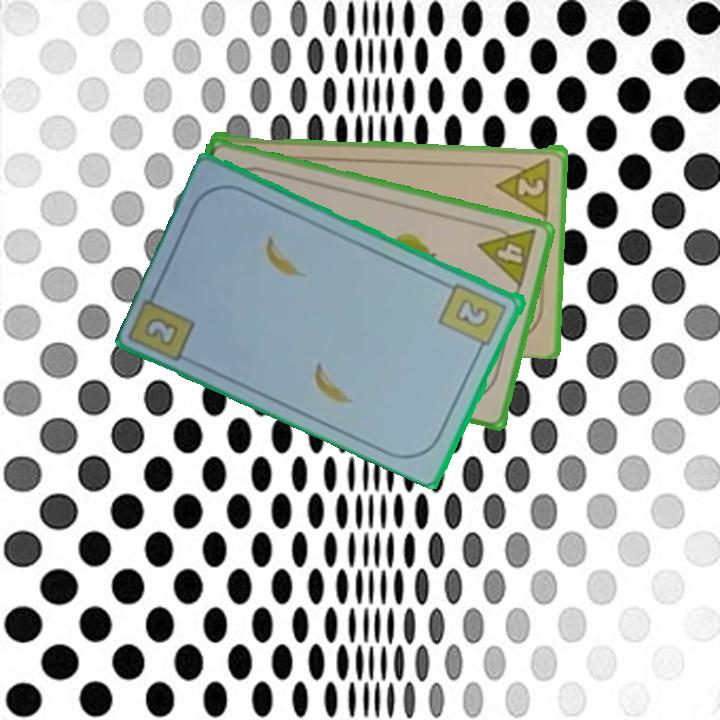2b: (436, 279, 511, 356), (141, 313, 183, 350)
2p: (493, 154, 554, 217)
4p: (475, 219, 540, 290)
